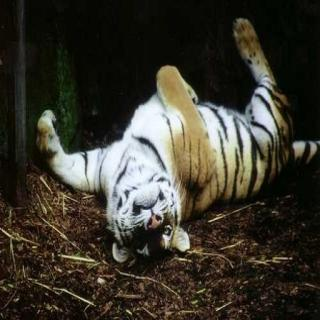Tiger: (20, 14, 320, 300)
